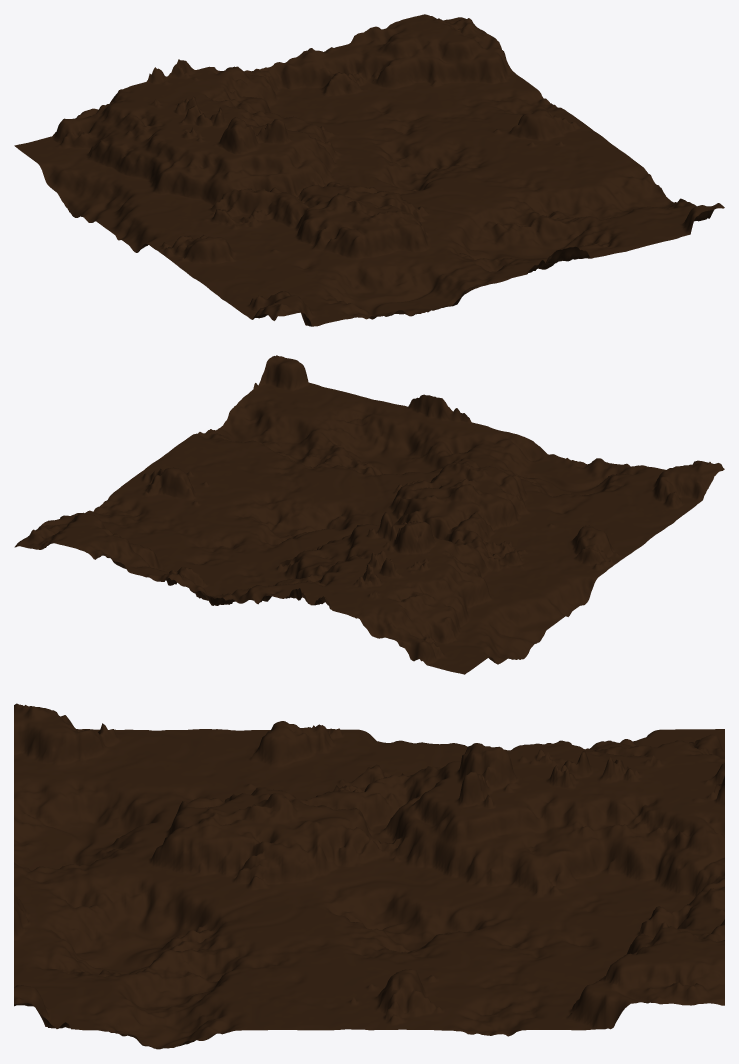
The model's file is 2x2.3_cubes_500m_009.glb.
3 renders of one model, top to bottom at view 1: azimuth 30°, elevation 25°; view 2: azimuth 150°, elevation 25°; view 3: azimuth 270°, elevation 25°, orthographic. The views are drawn at different scales.
Visible parts, largest first — view 1: Cube; view 2: Cube; view 3: Cube.
Part boxes in pixels (bbox=[...]): Cube: bbox=[14, 14, 724, 326]; Cube: bbox=[14, 355, 724, 674]; Cube: bbox=[14, 703, 724, 1049].
Bounding box in the file's own units: 500 × 86.85 × 500.
